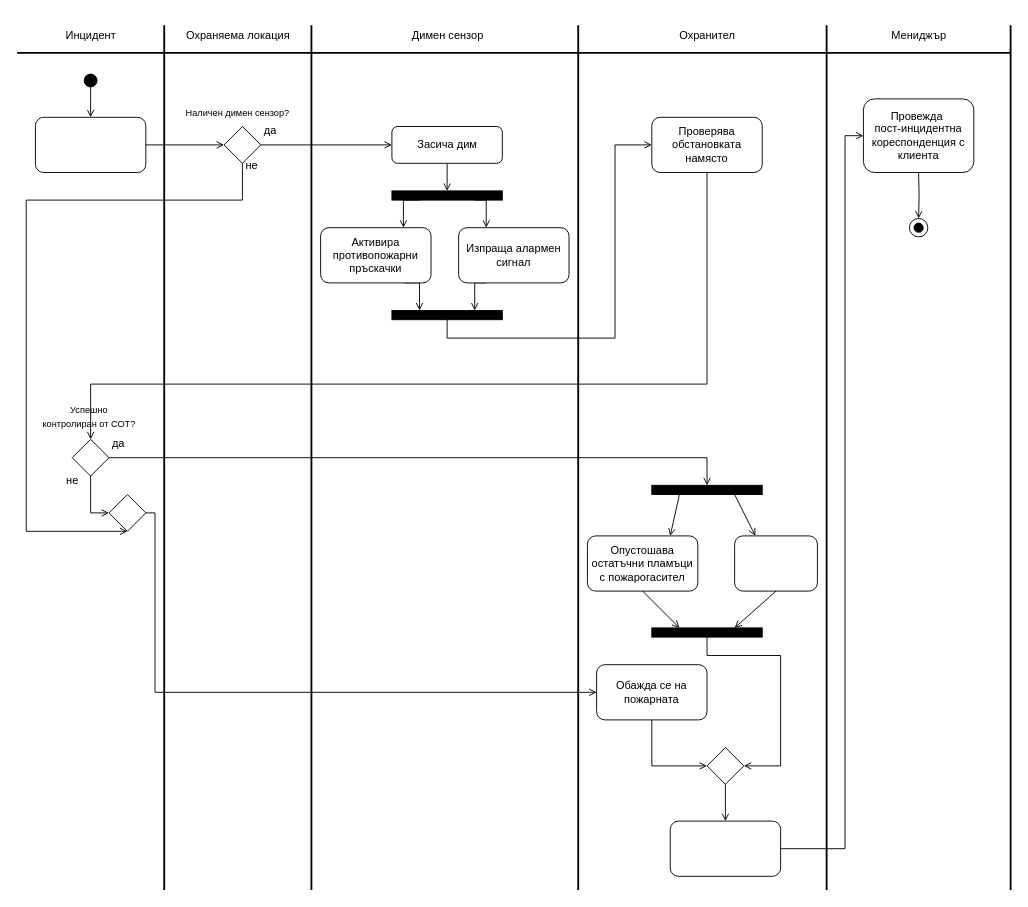
Image size: 1028x907. Some labels were removed from this diagram. The centre of each missing label's shape, as x and y in pixels:
"Възниква пожар" goes at point (90, 144).
"Обезопасява локацията" goes at point (775, 563).
"Уведомява мениджър" goes at point (725, 848).
